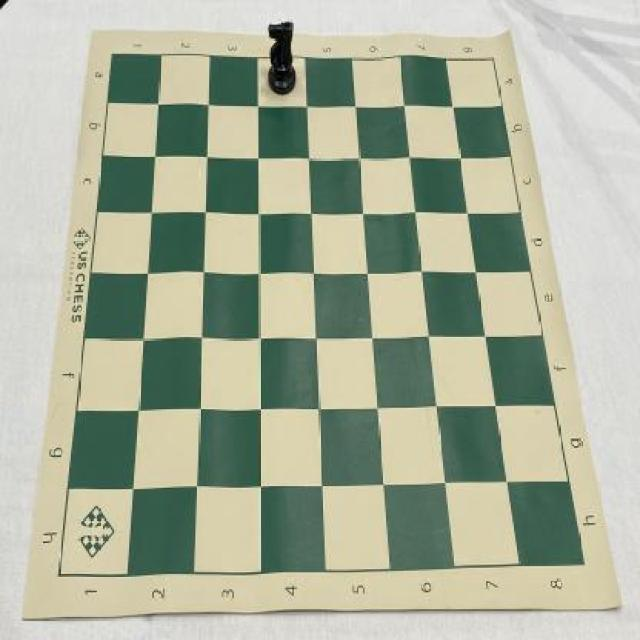black-king: (264, 18, 298, 98)
